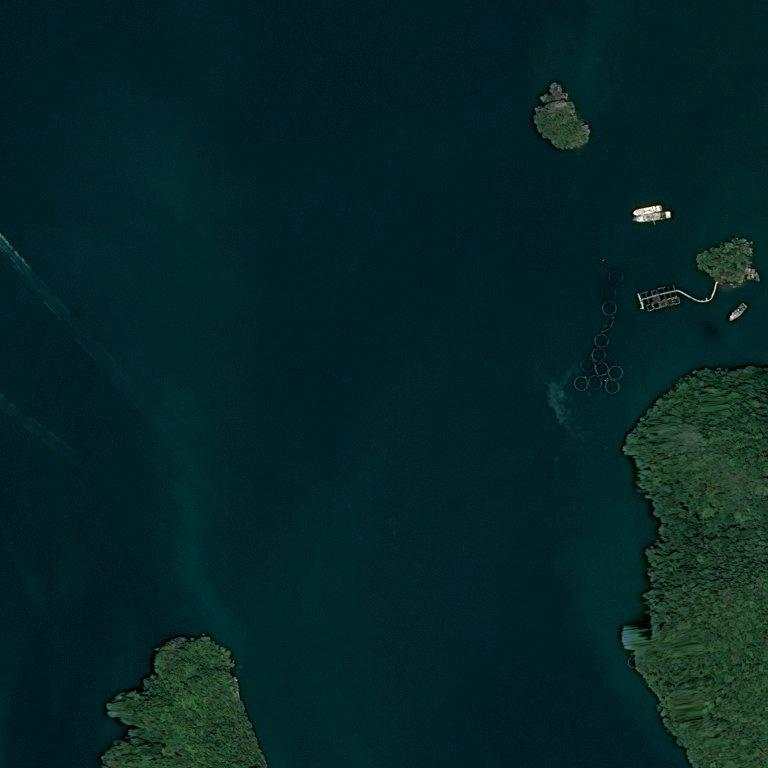ship: (727, 302, 749, 324), (631, 204, 664, 217), (650, 214, 653, 222)
